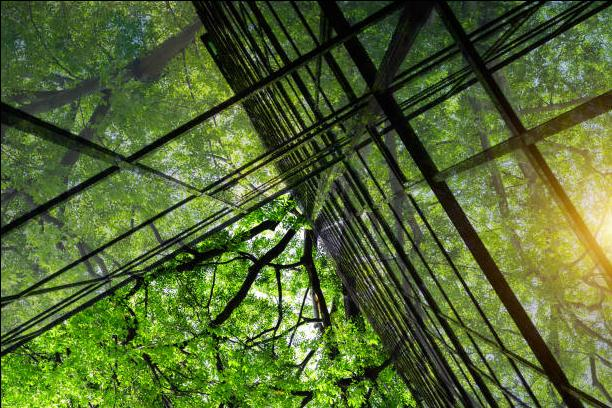Non_Gorille: (51, 0, 563, 379)
